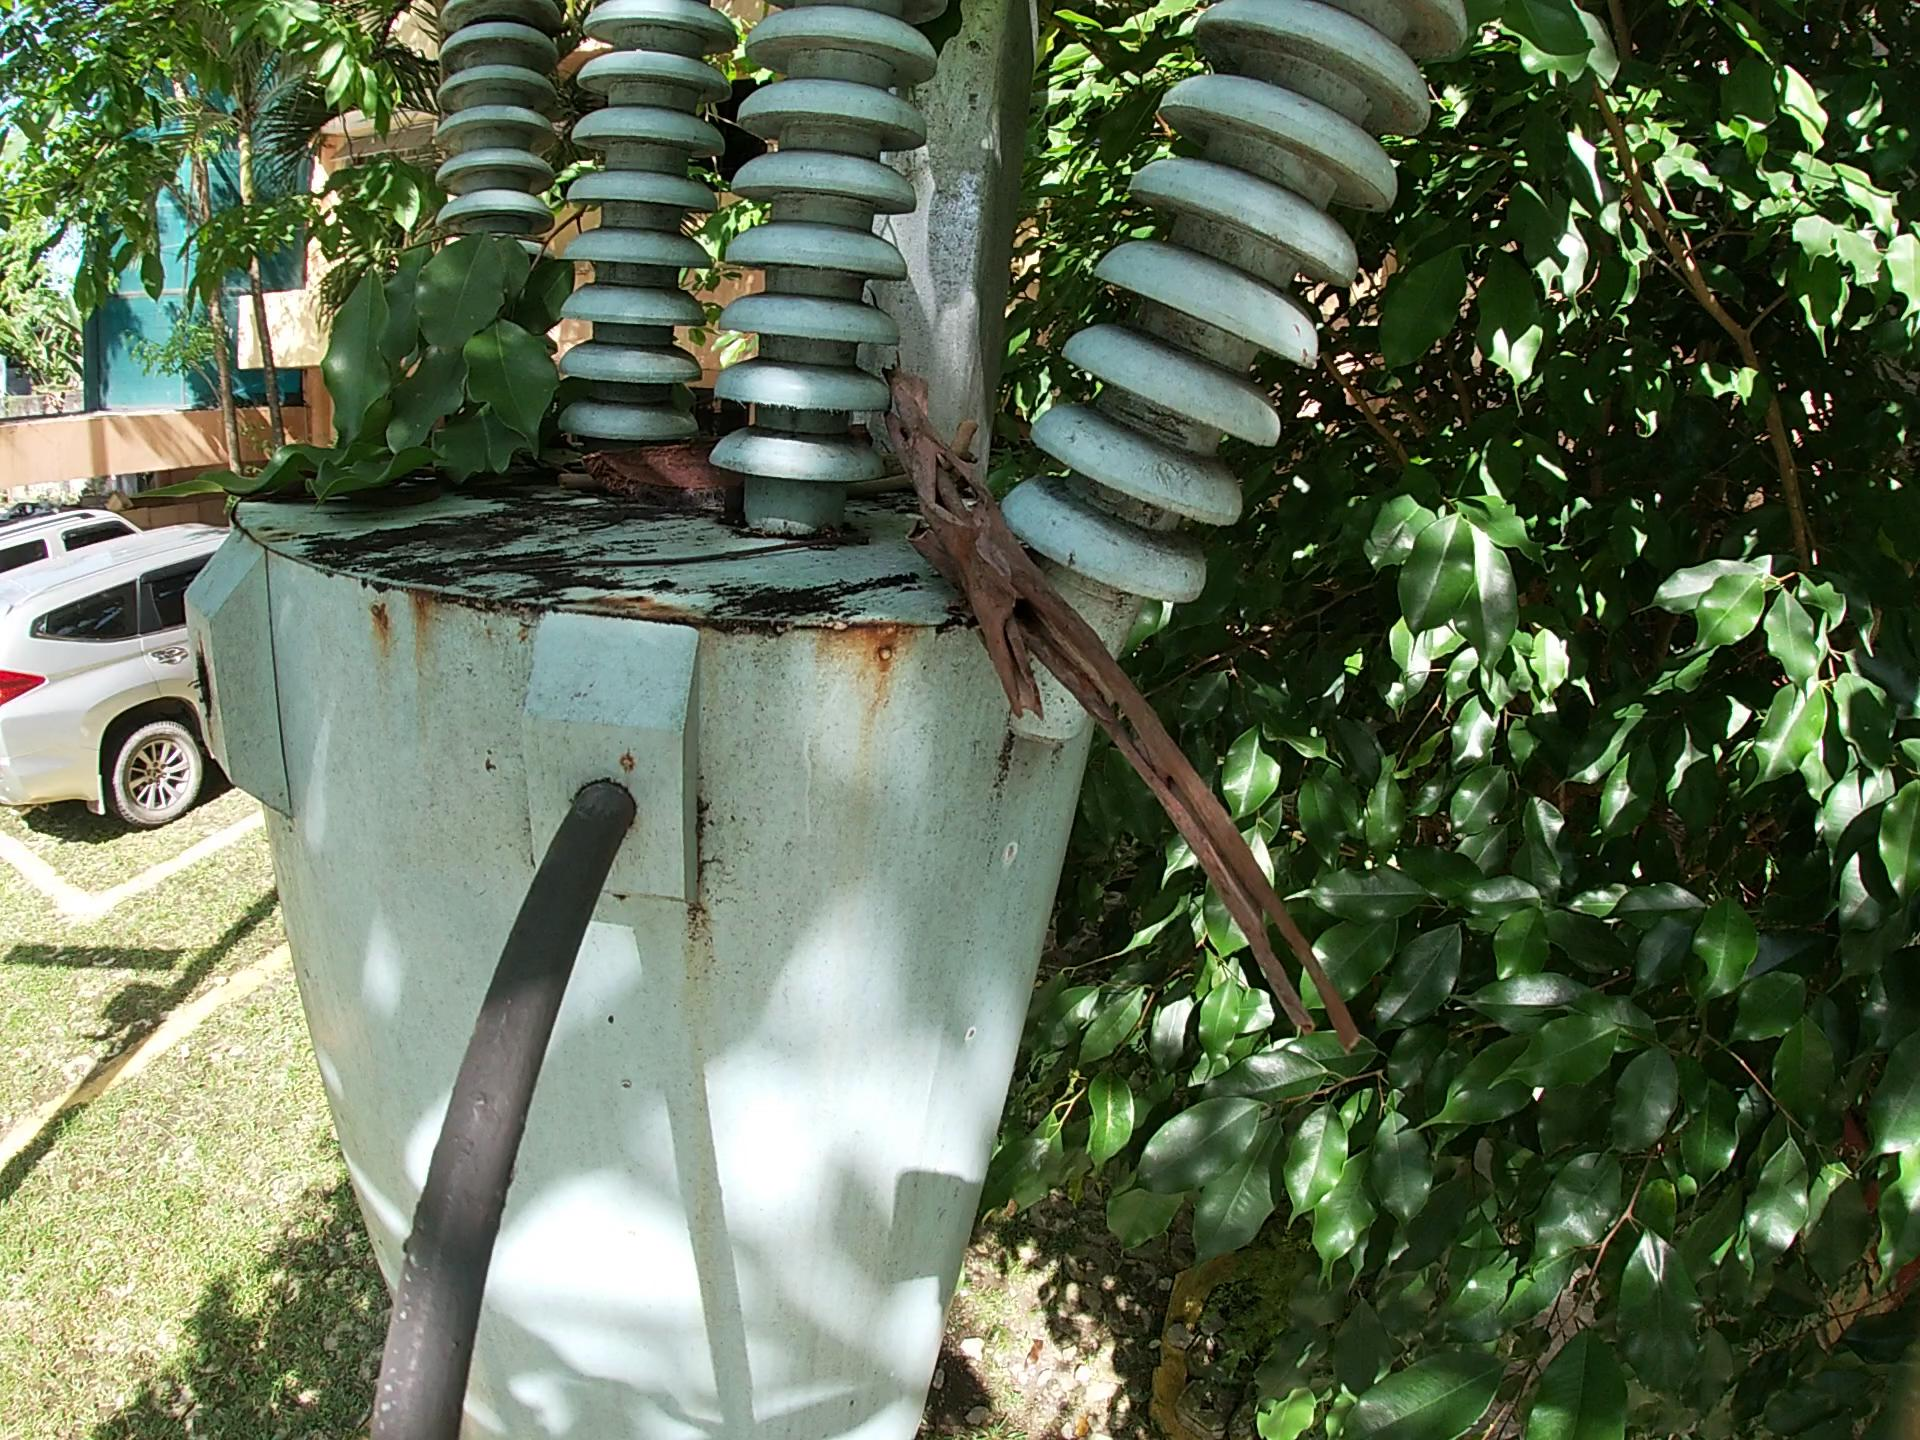branch with leaves: (184, 153, 614, 614)
mahogany fruit: (561, 440, 774, 508)
tree branch: (877, 363, 1388, 1091), (500, 525, 844, 584), (590, 505, 723, 537), (547, 470, 596, 501)
